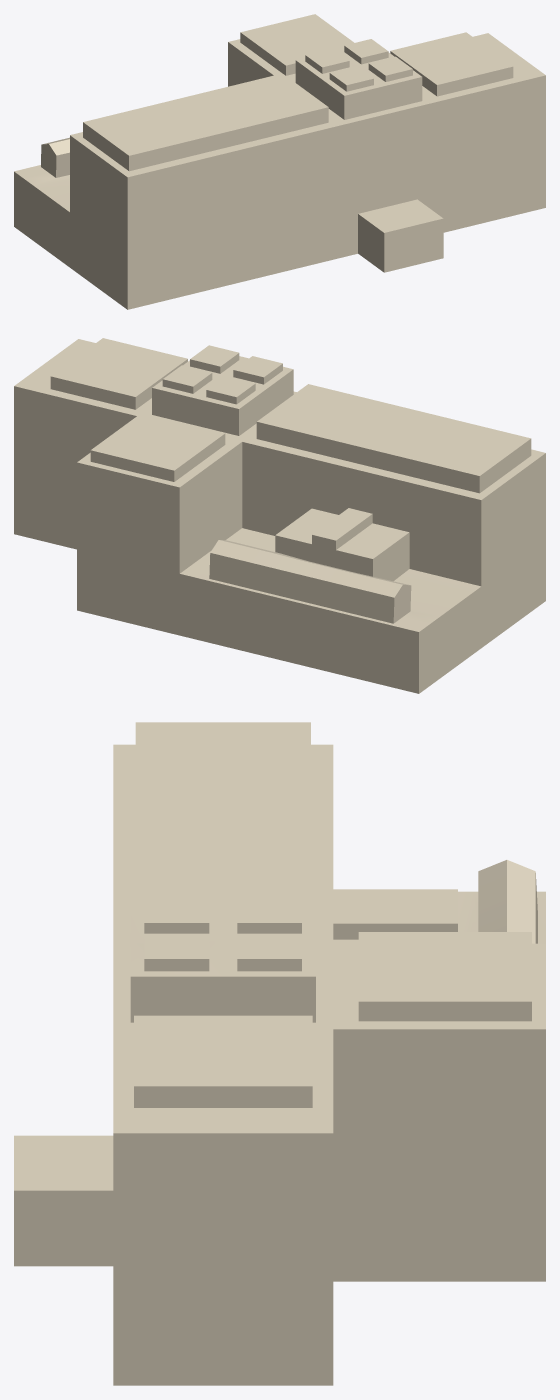
Rendered from SM_Bessemer_Building.fbx.
The picture shows the model from 3 angles, top to bottom: view 1: azimuth 30°, elevation 25°; view 2: azimuth 150°, elevation 25°; view 3: azimuth 270°, elevation 25°; orthographic projection. The views are drawn at different scales.
Visible parts, largest first — view 1: SM_Bessemer_Building; view 2: SM_Bessemer_Building; view 3: SM_Bessemer_Building.
Boxes of the visible parts, x1=… form: SM_Bessemer_Building: x1=14, y1=14, x2=545, y2=309; SM_Bessemer_Building: x1=14, y1=338, x2=545, y2=693; SM_Bessemer_Building: x1=14, y1=722, x2=545, y2=1385.
Bounding box in the file's own units: 79.3 × 29.58 × 45.87.
